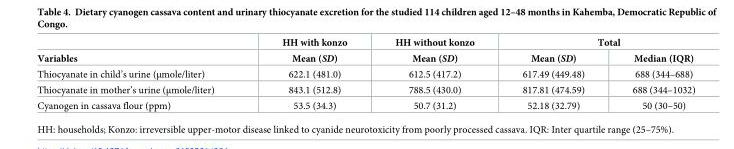table: (36, 37, 694, 110)
table column: (36, 37, 247, 110), (370, 37, 497, 110), (247, 37, 370, 110), (497, 37, 607, 110), (607, 37, 694, 110)
table column header: (36, 37, 694, 65)
table row: (36, 81, 694, 98), (36, 49, 694, 65), (36, 65, 694, 81), (36, 37, 694, 49), (36, 98, 694, 110)
table spanning cell: (36, 37, 247, 65), (370, 37, 497, 65), (247, 37, 370, 65), (497, 37, 694, 49)
